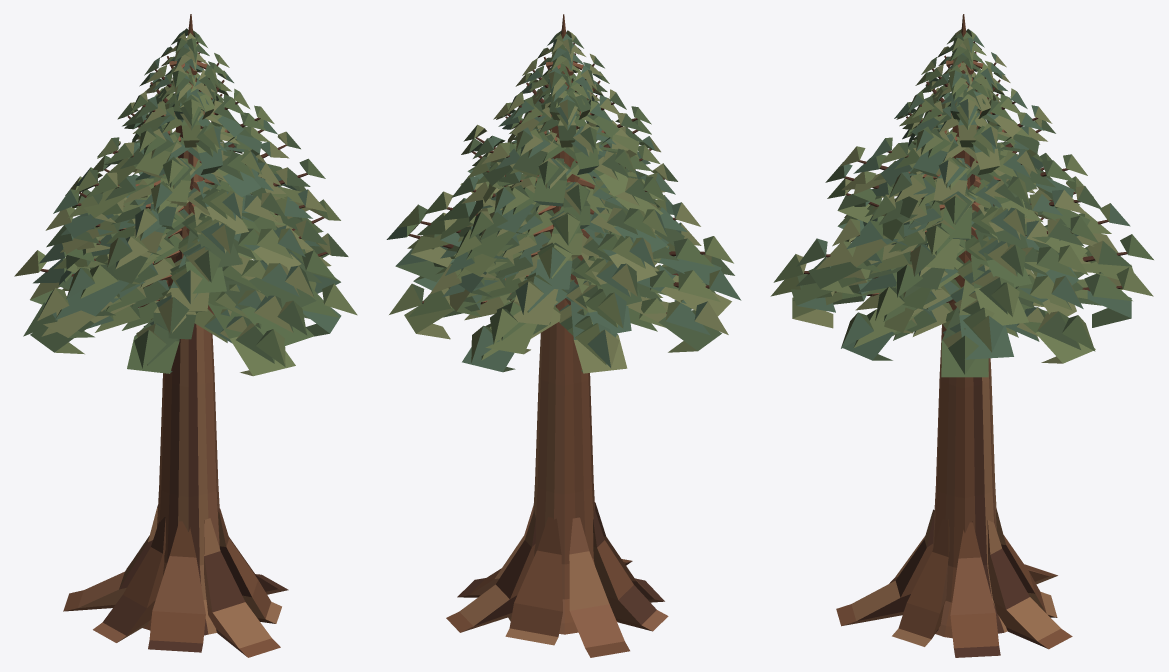
The model's file is redwood-hero.glb.
The picture shows the model from 3 angles, left to right: view 1: azimuth 30°, elevation 25°; view 2: azimuth 150°, elevation 25°; view 3: azimuth 270°, elevation 25°; orthographic projection.
Parts seen in each view (by area): view 1: redwood-hero; view 2: redwood-hero; view 3: redwood-hero.
Boxes of the visible parts, x1,y1,x2,y2 form: redwood-hero: [14, 14, 357, 657]; redwood-hero: [386, 14, 741, 657]; redwood-hero: [770, 14, 1153, 657].
Size of the model in its own units: 7.06 by 12.19 by 7.05.
